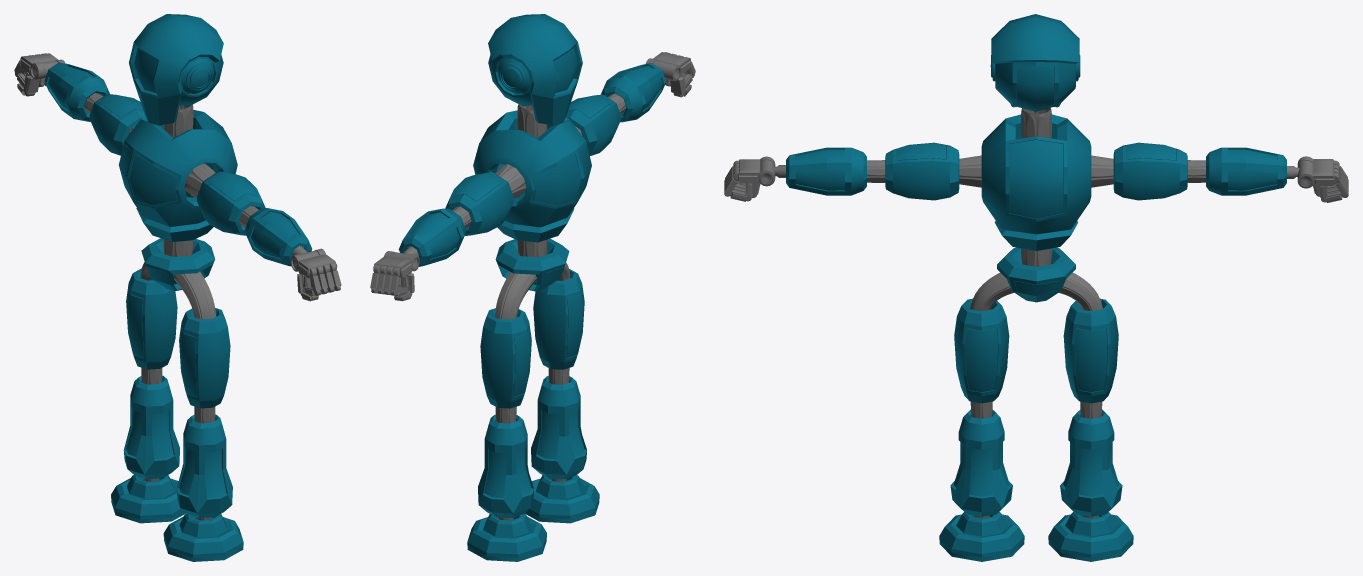
File: fw_xiaoxue.obj
The picture shows the model from 3 angles, left to right: view 1: azimuth 30°, elevation 25°; view 2: azimuth 150°, elevation 25°; view 3: azimuth 270°, elevation 25°; orthographic projection. The views are drawn at different scales.
Parts seen in each view (by area): view 1: body, head, L_Calf, R_Calf01, L_Thigh, R_Thigh01, L_Foot, L_UpperArm, R_Foot01, L_Forearm, R_Forearm, R_UpperArm (+9 smaller); view 2: body, head, L_Calf, R_Calf01, R_Thigh01, L_Thigh, R_Foot01, R_UpperArm, L_Foot, R_Forearm, L_Forearm, L_UpperArm (+9 smaller); view 3: body, head, R_Calf01, L_Calf, R_Thigh01, L_Thigh, L_UpperArm, R_UpperArm, L_Forearm, R_Forearm, R_Foot01, L_Foot (+6 smaller).
Boxes of the visible parts, x1=… form: body: x1=119, y1=110, x2=237, y2=226; head: x1=129, y1=14, x2=223, y2=125; L_Calf: x1=176, y1=414, x2=232, y2=517; R_Calf01: x1=123, y1=375, x2=179, y2=479; L_Thigh: x1=179, y1=308, x2=230, y2=408; R_Thigh01: x1=126, y1=268, x2=177, y2=369; L_Foot: x1=163, y1=513, x2=243, y2=561; L_UpperArm: x1=197, y1=171, x2=265, y2=235; R_Foot01: x1=111, y1=475, x2=186, y2=523; L_Forearm: x1=244, y1=208, x2=311, y2=266; R_Forearm: x1=44, y1=62, x2=109, y2=121; R_UpperArm: x1=89, y1=94, x2=145, y2=155; body: x1=473, y1=110, x2=591, y2=227; head: x1=488, y1=14, x2=582, y2=125; L_Calf: x1=531, y1=376, x2=586, y2=479; R_Calf01: x1=478, y1=414, x2=533, y2=517; R_Thigh01: x1=480, y1=308, x2=531, y2=408; L_Thigh: x1=533, y1=269, x2=584, y2=369; R_Foot01: x1=467, y1=513, x2=546, y2=561; R_UpperArm: x1=445, y1=172, x2=513, y2=235; L_Foot: x1=524, y1=475, x2=599, y2=523; R_Forearm: x1=398, y1=208, x2=466, y2=266; L_Forearm: x1=601, y1=63, x2=666, y2=122; L_UpperArm: x1=565, y1=94, x2=621, y2=155; body: x1=981, y1=114, x2=1091, y2=234; head: x1=991, y1=14, x2=1079, y2=111; R_Calf01: x1=1060, y1=409, x2=1122, y2=516; L_Calf: x1=950, y1=409, x2=1012, y2=516; R_Thigh01: x1=1063, y1=298, x2=1118, y2=403; L_Thigh: x1=954, y1=298, x2=1009, y2=403; L_UpperArm: x1=885, y1=142, x2=959, y2=200; R_UpperArm: x1=1113, y1=142, x2=1187, y2=200; L_Forearm: x1=786, y1=147, x2=866, y2=195; R_Forearm: x1=1206, y1=147, x2=1286, y2=195; R_Foot01: x1=1048, y1=512, x2=1133, y2=561; L_Foot: x1=939, y1=511, x2=1024, y2=561.
Bounding box in the file's own units: 21.02 × 99.09 × 107.
